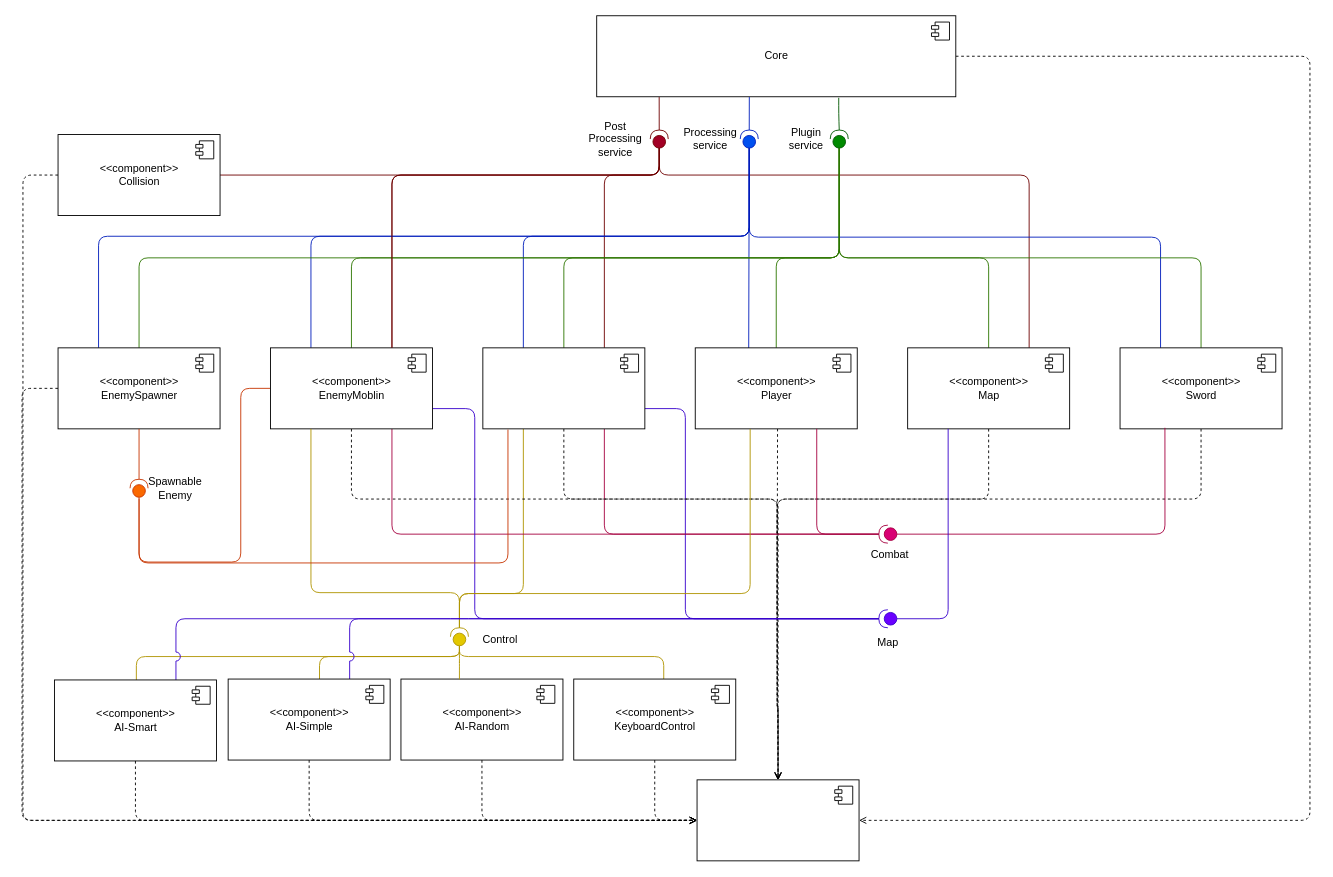
This 1333x877 diagram has some shape labels left out. Here are the shapes that lost their labels. From the top down, the centre of each, then its label:
[563,388]: <<component>> EnemyOctorok
[777,820]: <<component>> <<library>> Common
